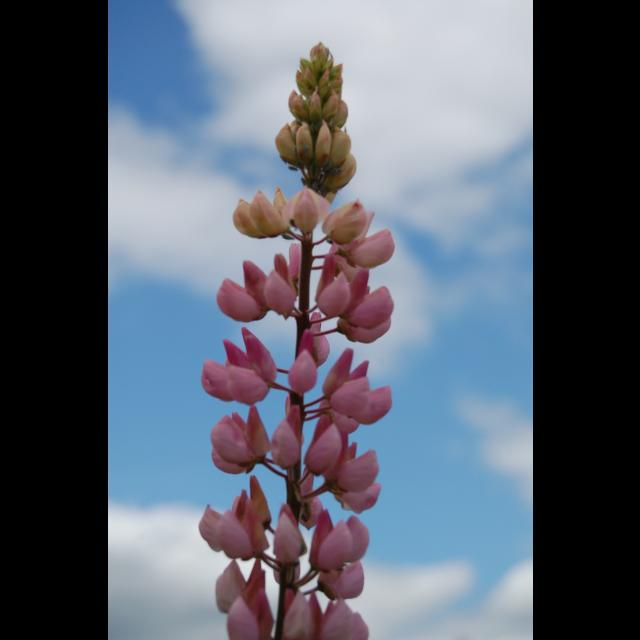Flower: (195, 100, 398, 640)
